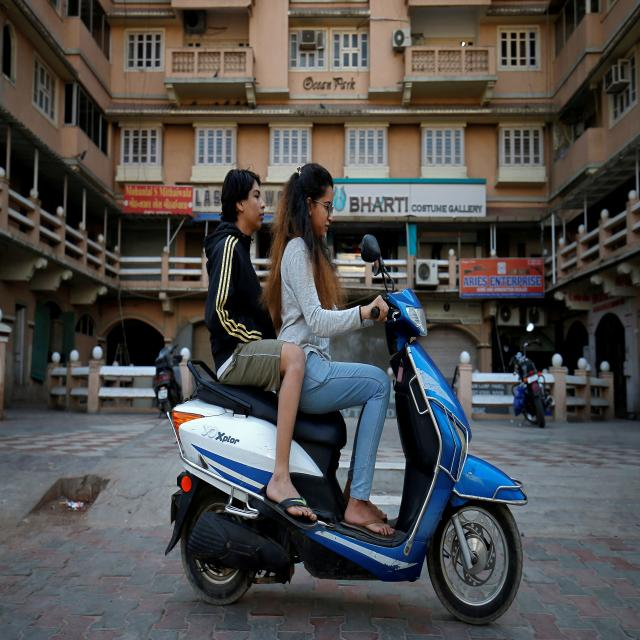motorcycle: (166, 163, 524, 623), (510, 341, 552, 426), (152, 345, 182, 413)
